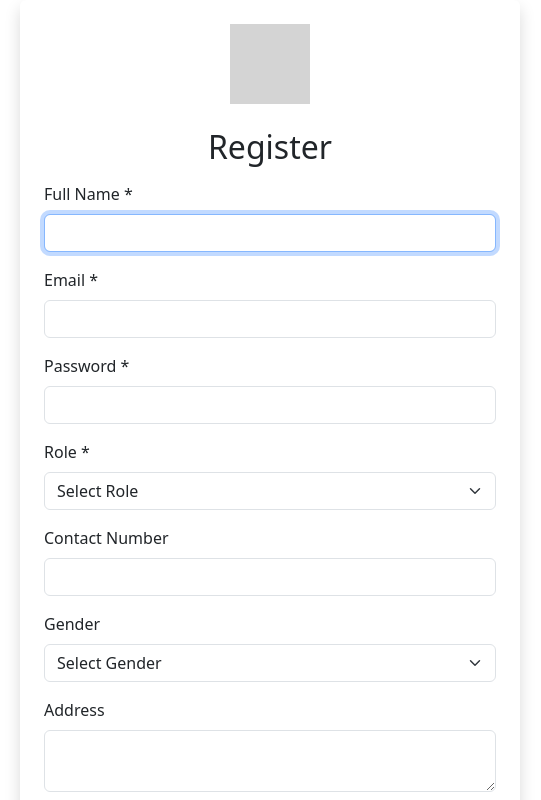
Test: Register Component › shows server error on API failure
Type "Test User" into the field labelled "Full Name *" at (270,233), box [44,214,496,252]
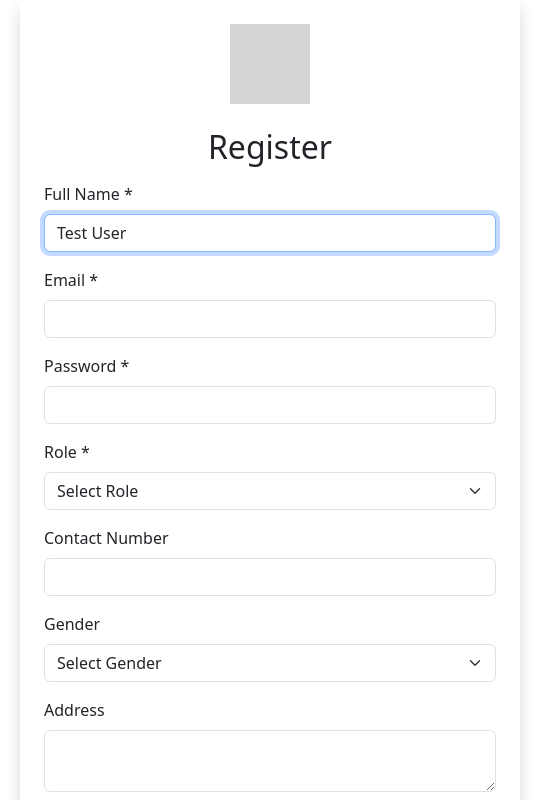
Type "test@mail.com" into the field labelled "Email *" at (270,319), box [44,300,496,338]
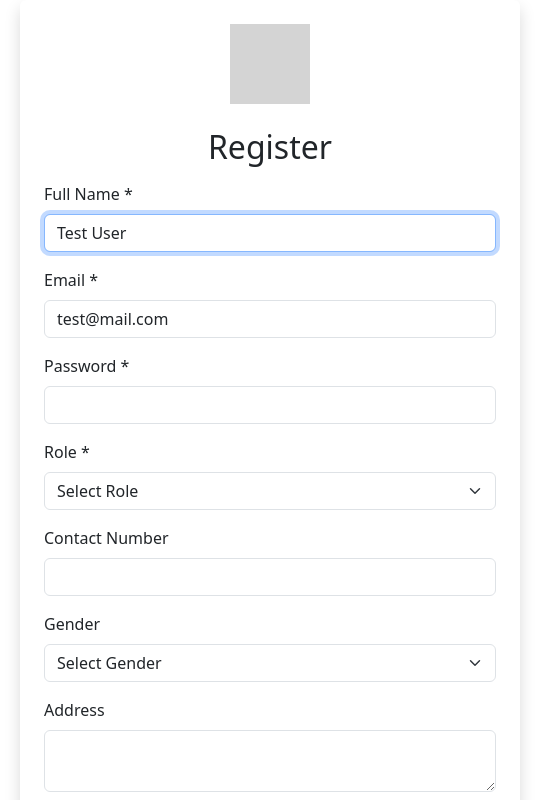
Type "Password1" into the password field labelled "Password *" at (270,405), box [44,386,496,424]
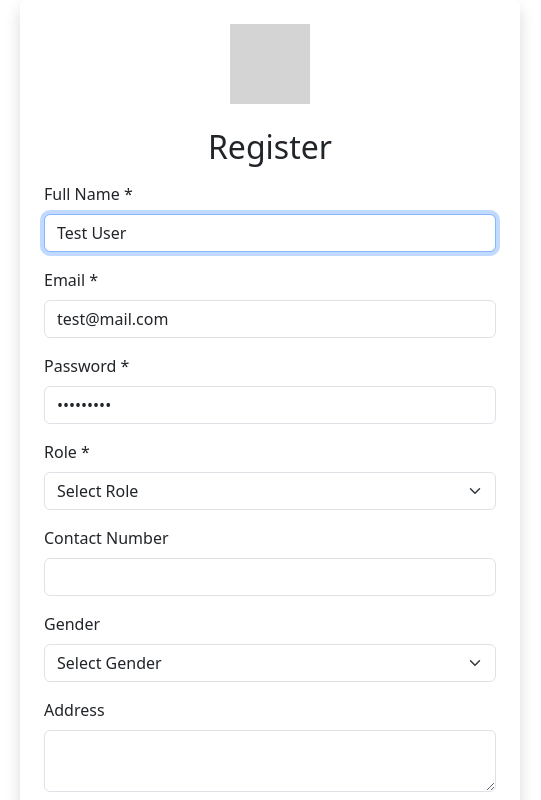
Select "User" in the dropdown labelled "Role *" at (270,491), box [44,472,496,510]
(page scrolled)
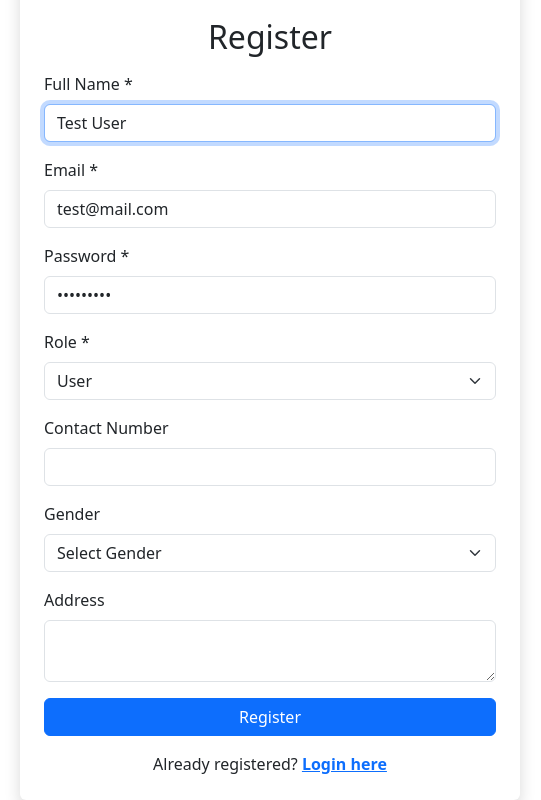
Click the button "Register" at (270,717), box [44,698,496,736]
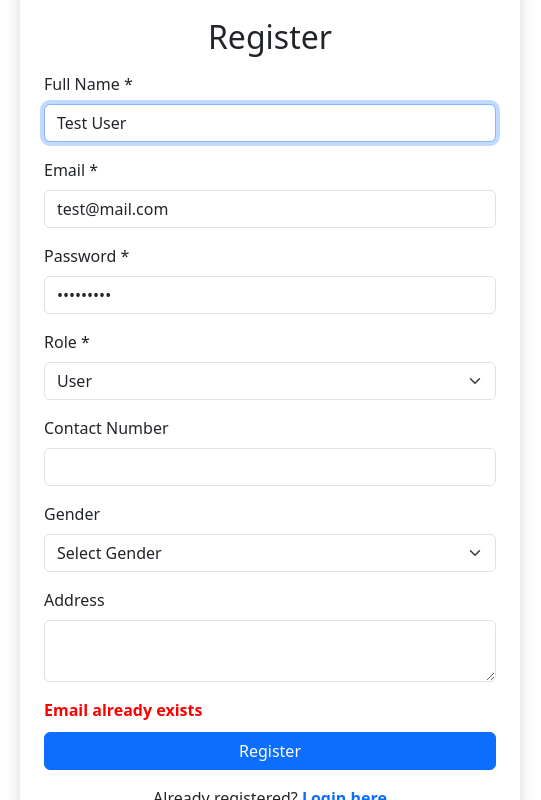
expect the text "Email already exists" is shown: met, box [44,699,202,721]
